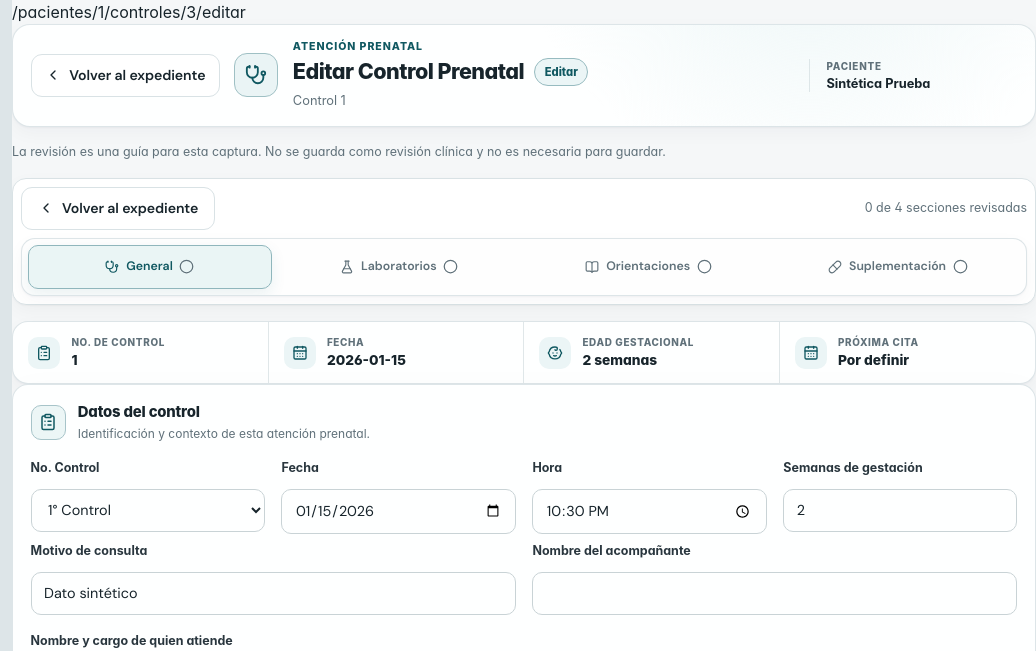
it: errores reales prevalecen sobre revisada y llevan a la sección afectada
expect the text "0 de 4 secciones revisadas" is shown: met, box [865, 199, 1027, 218]
Click the tab "Laboratorios".
click(399, 267)  # box [277, 245, 521, 289]
(page scrolled)
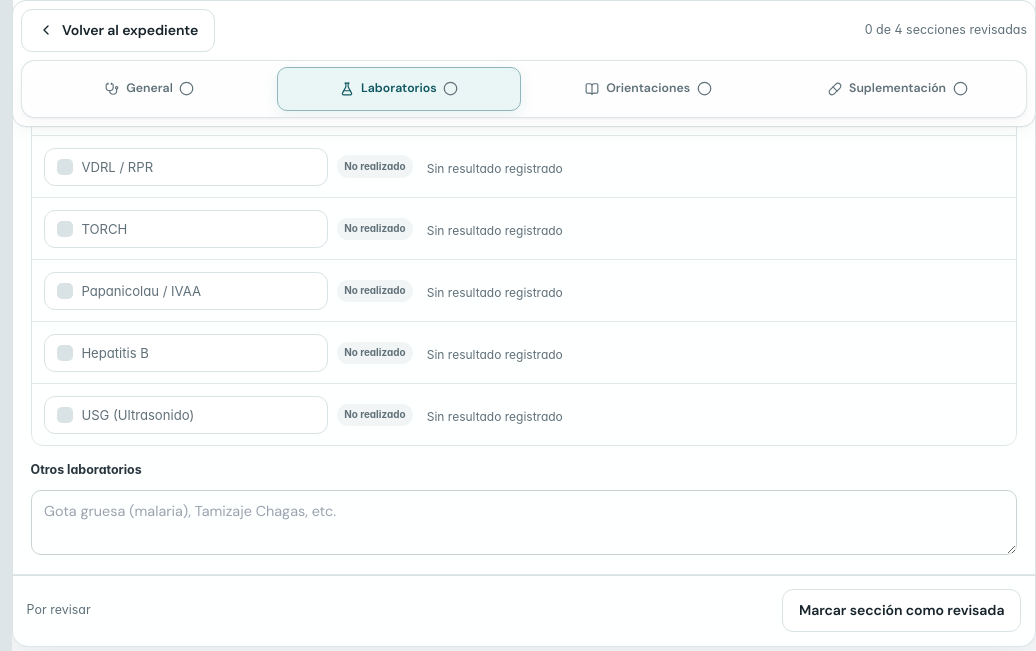
Click the button "Marcar sección como revisada".
click(902, 611)  # box [782, 589, 1021, 632]
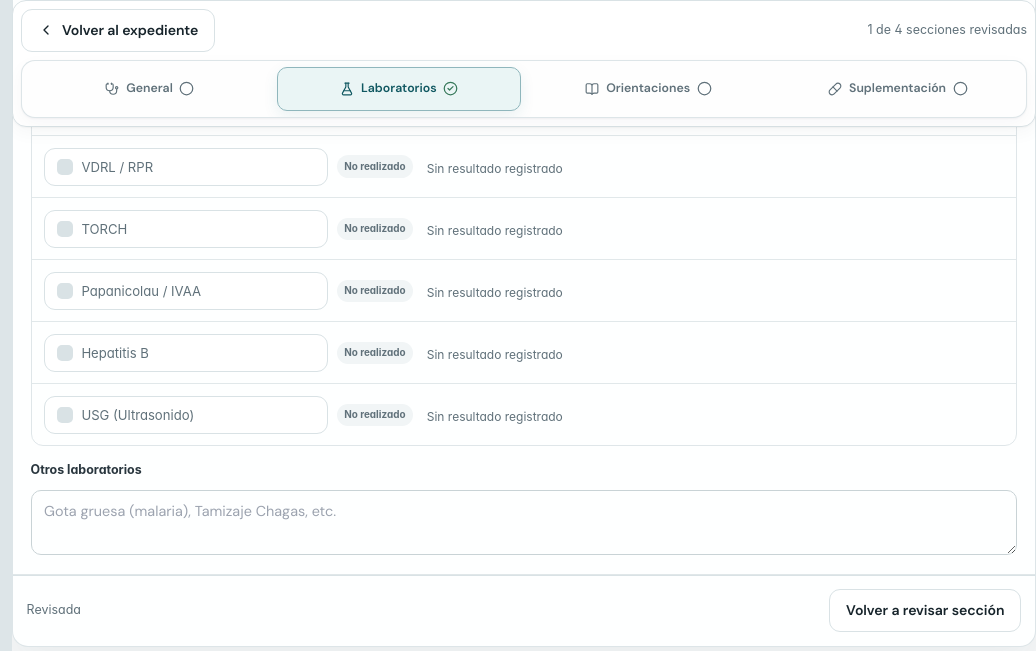
Click the tab "General".
click(150, 89)  # box [28, 67, 272, 111]
(page scrolled)
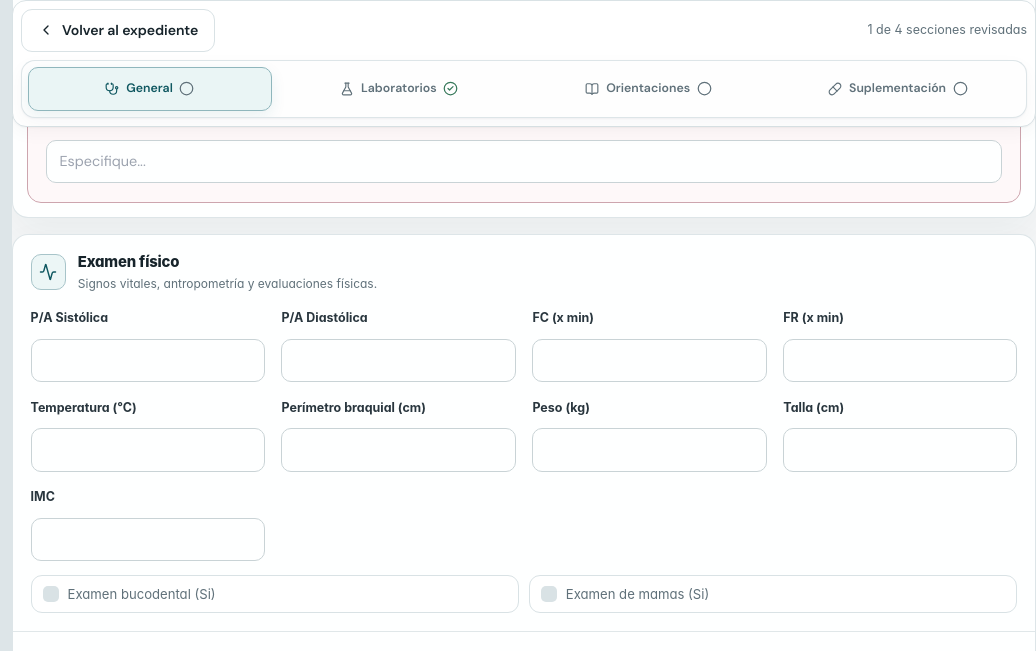
Submit the form
(page scrolled)
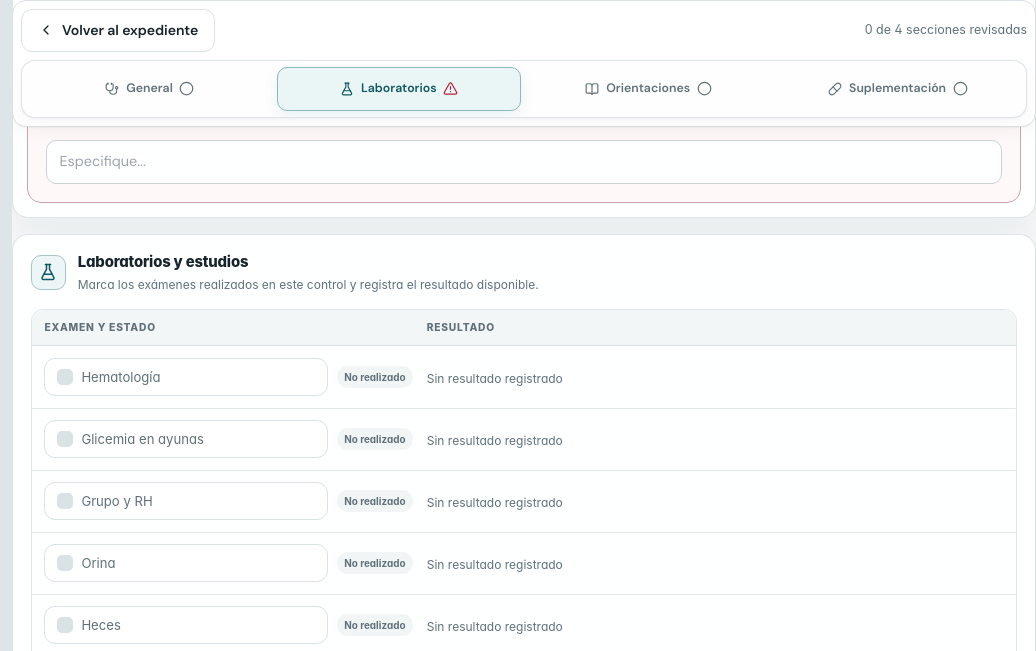
expect the text "0 de 4 secciones revisadas" is shown: met, box [865, 21, 1027, 40]
expect the element with class "needs-correction" is shown: met, box [443, 82, 458, 96]
Click the button "Grupo y RH".
click(117, 501)  # box [44, 482, 328, 520]
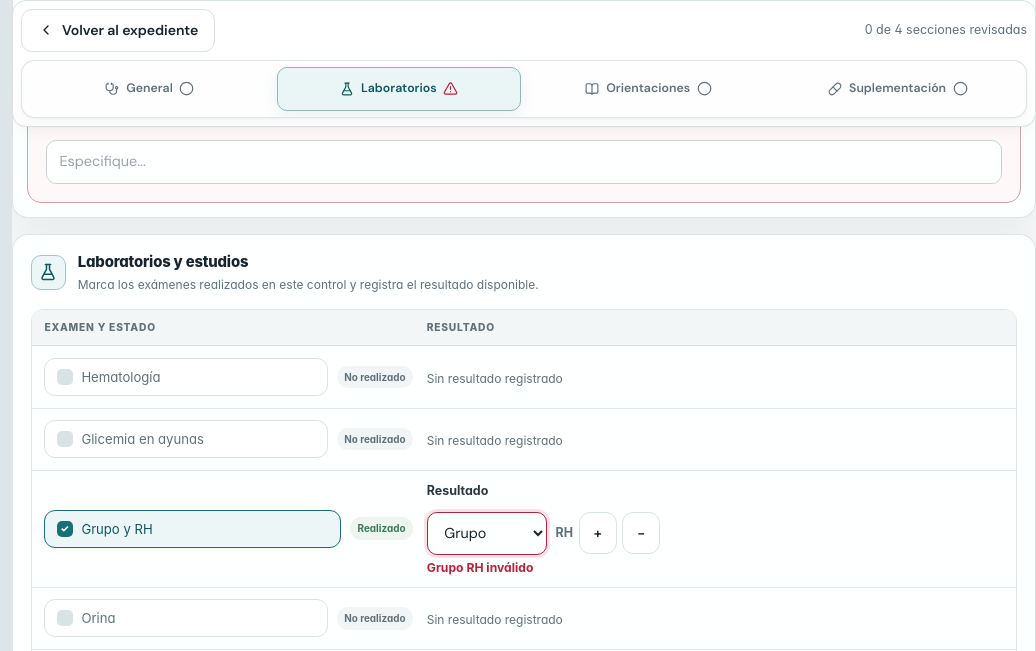
Select "O" in the dropdown named "grupo_rh_resultado" at (487, 533), box [427, 512, 547, 555]
(page scrolled)
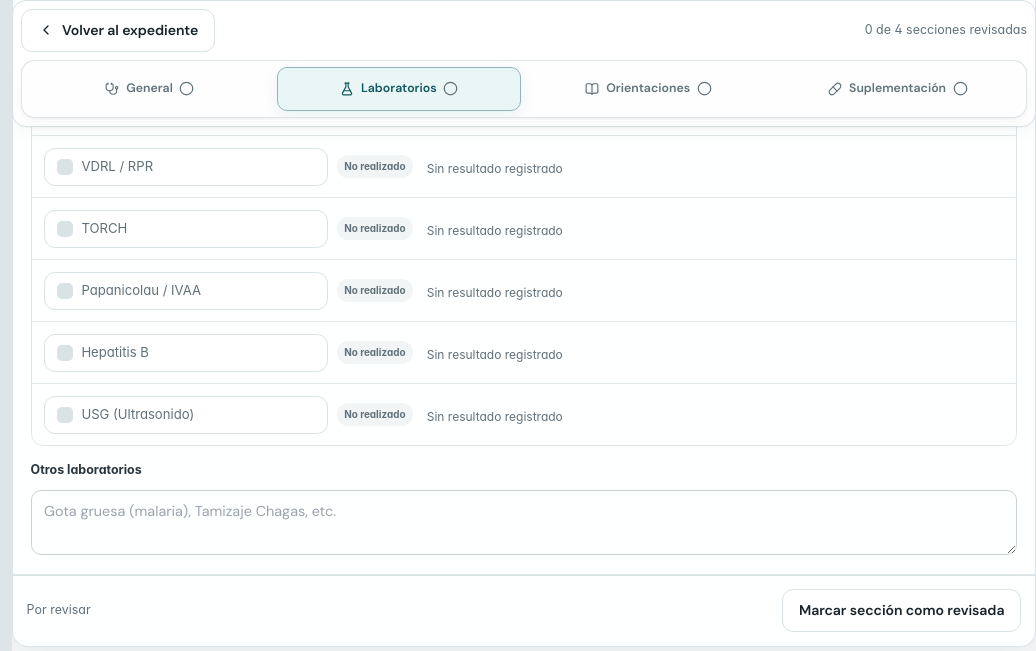
expect the button "Marcar sección como revisada" is enabled: met, box [782, 589, 1021, 632]
